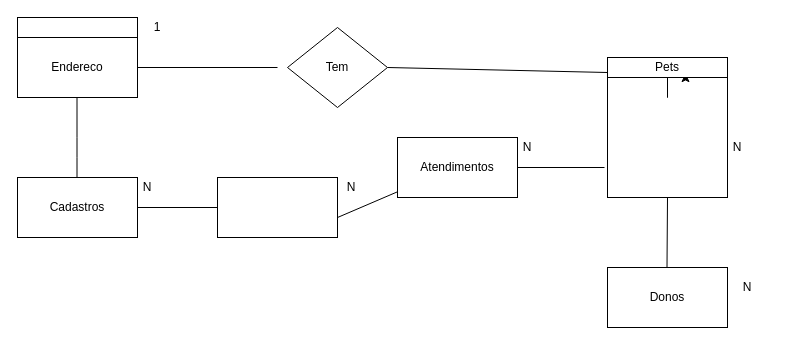
Some shapes in this 785 by 345 pixel diagram are drawn without their labels. Each missing label, with the centre of its shape:
"Clinicas" belongs at point 77,27.
"Nome Data de Nascimento Tipo de pet Raça" belongs at point 667,137.
"Veterinarios" belongs at point 277,207.
